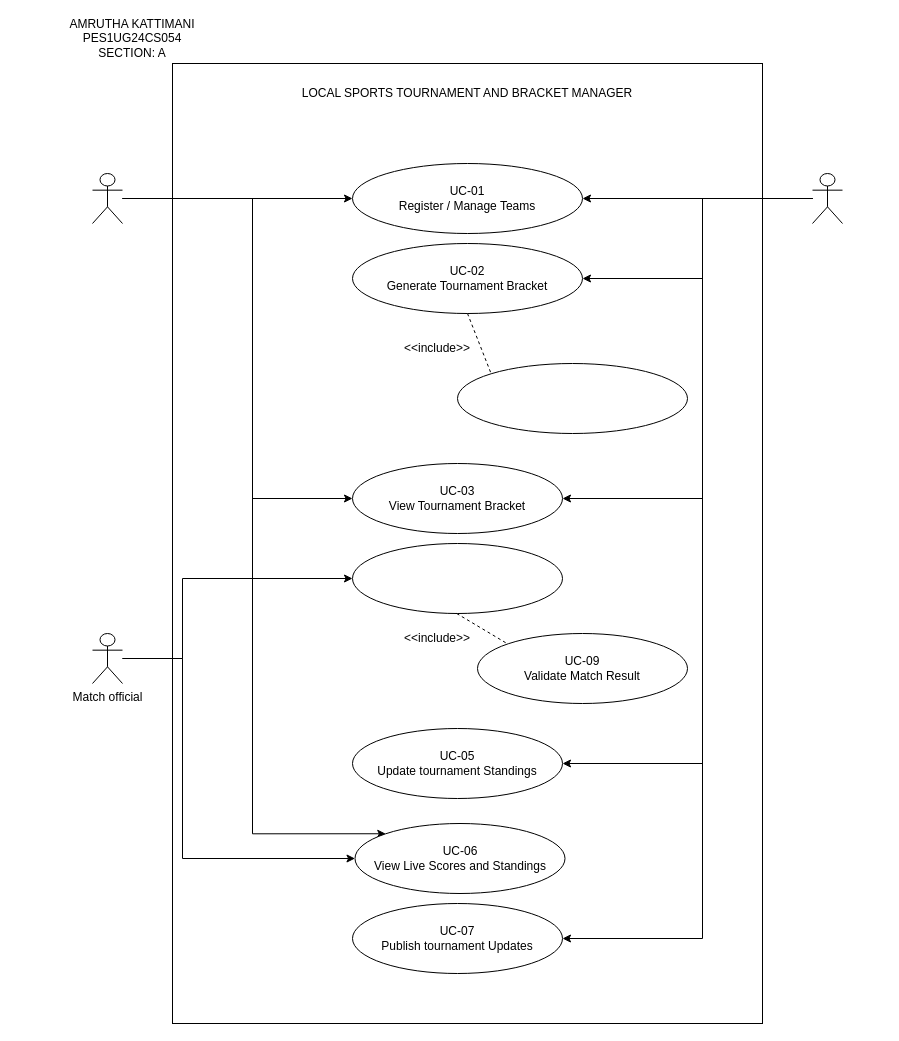
Some shapes in this 899 by 1041 pixel diagram are drawn without their labels. The shapes that lost their labels are listed below. From the top down, each one's centre as x and y in pixels, then its label:
At (107,198): "Team Captain".
At (827,198): "Tournament Director".
At (572,398): "UC-08 Validate Team Rankings".
At (457,578): "UC-04 Record Match Score".
